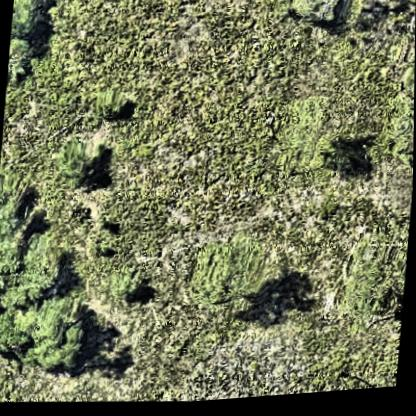tree-top: (19, 297, 91, 382), (189, 236, 270, 309), (0, 240, 65, 314), (62, 137, 104, 190), (0, 303, 34, 360), (94, 87, 133, 125), (13, 0, 43, 36)
